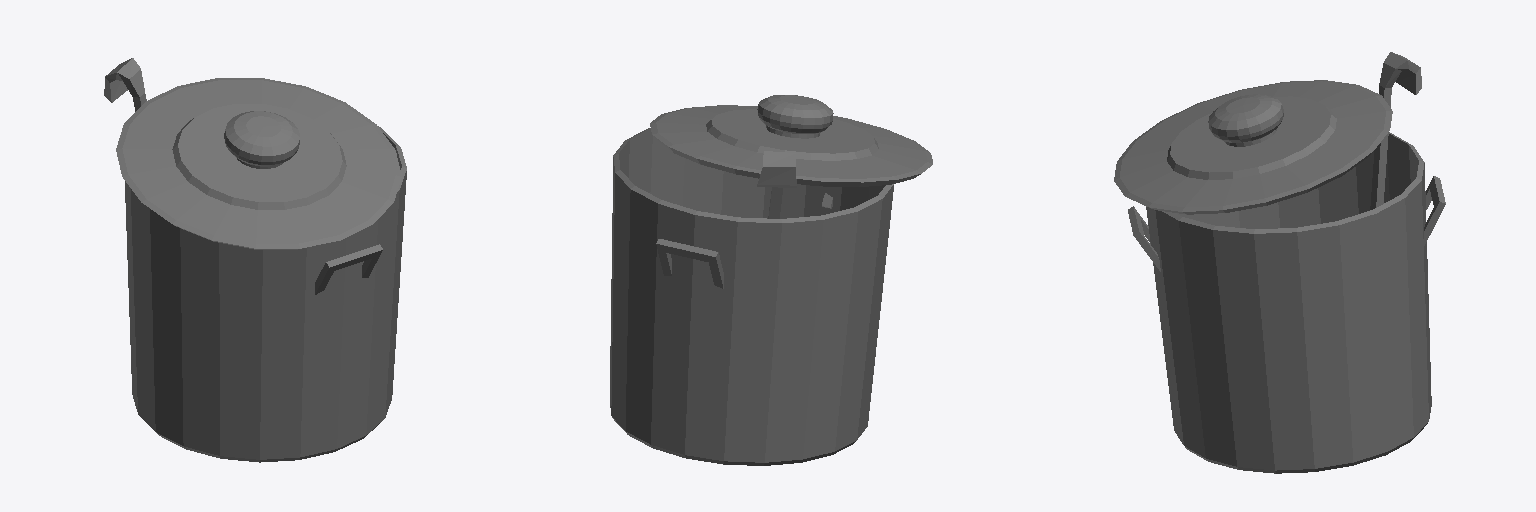
The model's file is boilingPot.obj.
The picture shows the model from 3 angles: view 1: azimuth 30°, elevation 25°; view 2: azimuth 150°, elevation 25°; view 3: azimuth 270°, elevation 25°; orthographic projection.
Parts seen in each view (by area): view 1: boilingPot dishes_grp; view 2: boilingPot dishes_grp; view 3: boilingPot dishes_grp.
Part boxes in pixels (x1,y1,x2,y2): boilingPot dishes_grp: (104,58,406,462); boilingPot dishes_grp: (610,95,932,465); boilingPot dishes_grp: (1114,52,1445,473).
Bounding box in the file's own units: 122 × 145 × 131.